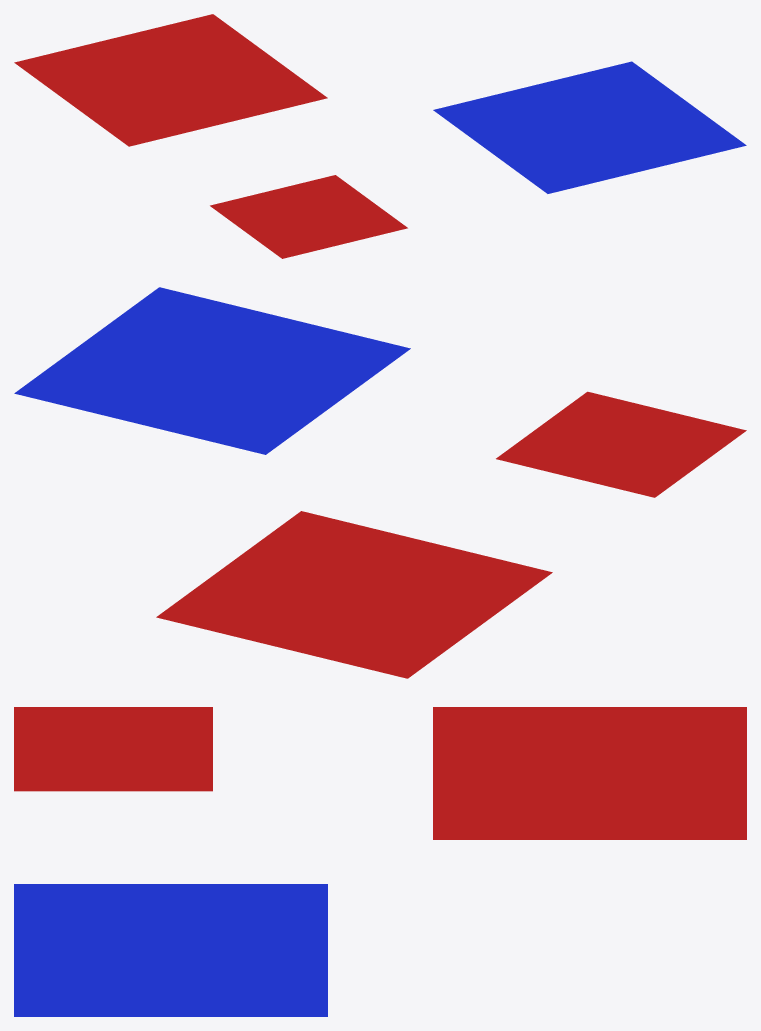
The model's file is tree.dae.
3 views of the same model, one above another, from view 1: azimuth 30°, elevation 25°; view 2: azimuth 150°, elevation 25°; view 3: azimuth 270°, elevation 25° (orthographic). The views are drawn at different scales.
Parts seen in each view (by area): view 1: wing1, wing2, site; view 2: wing2, wing1, site; view 3: wing1, wing2, site.
Boxes of the visible parts, x1,y1,x2,y2 form: wing1: (14,14,327,146); wing2: (433,61,746,193); site: (210,175,407,258); wing2: (14,287,410,454); wing1: (156,511,552,678); site: (496,391,746,497); wing1: (433,707,746,839); wing2: (14,884,327,1016); site: (14,707,212,791).
Bounding box in the file's own units: 70 × 70 × 0.
